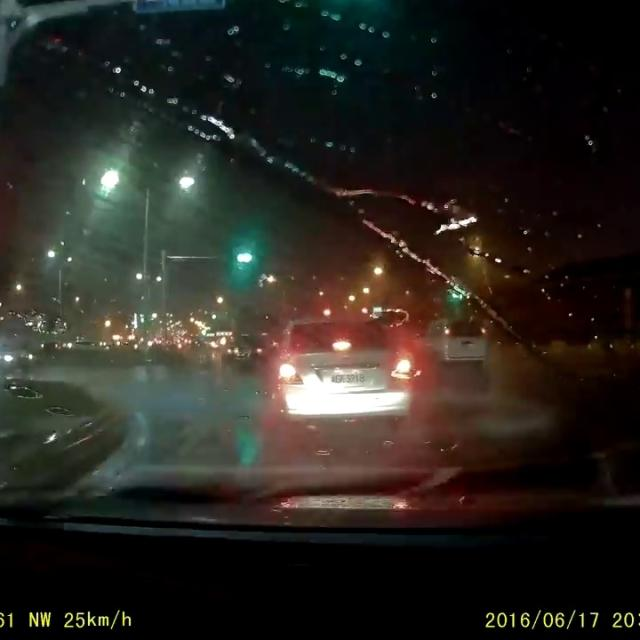Car: (264, 310, 415, 425), (422, 314, 491, 366), (217, 333, 261, 367)
